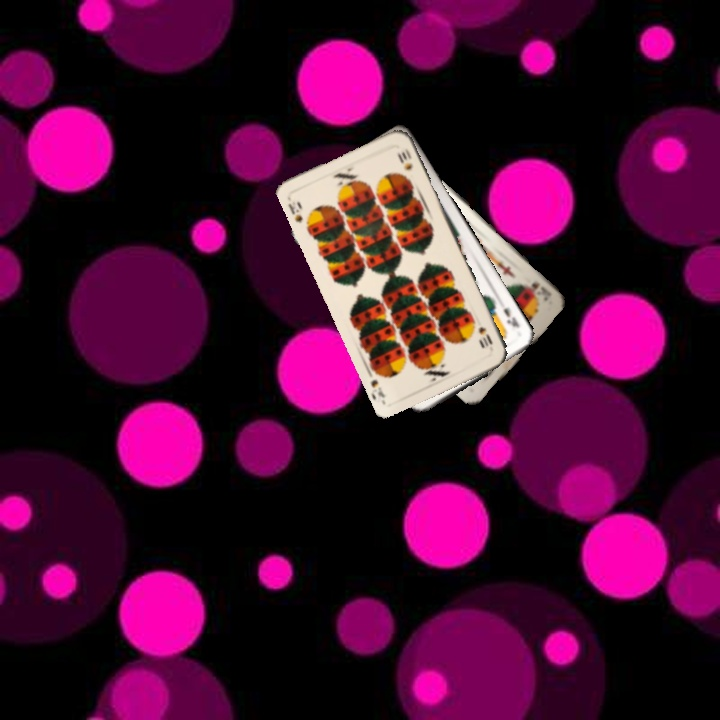EK: (499, 303, 522, 331)
S10: (284, 193, 305, 225), (475, 323, 495, 349)
SK: (521, 278, 551, 304)
